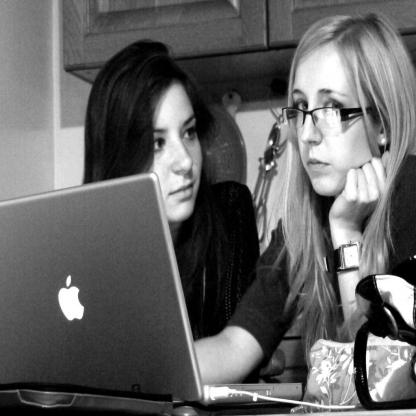board: (26, 96, 298, 408)
